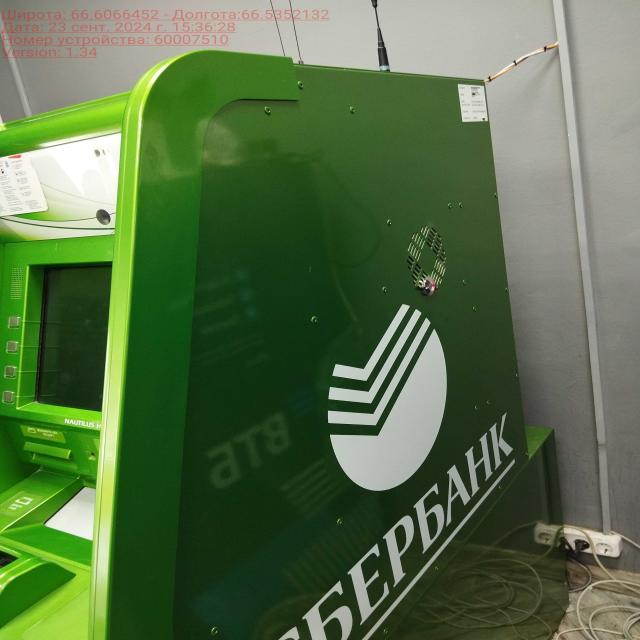bank: (0, 50, 575, 640)
